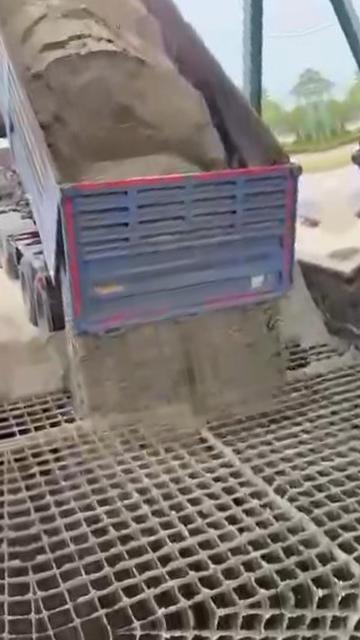sand: (0, 266, 330, 433), (0, 0, 225, 181), (202, 429, 360, 576), (297, 348, 360, 377)
